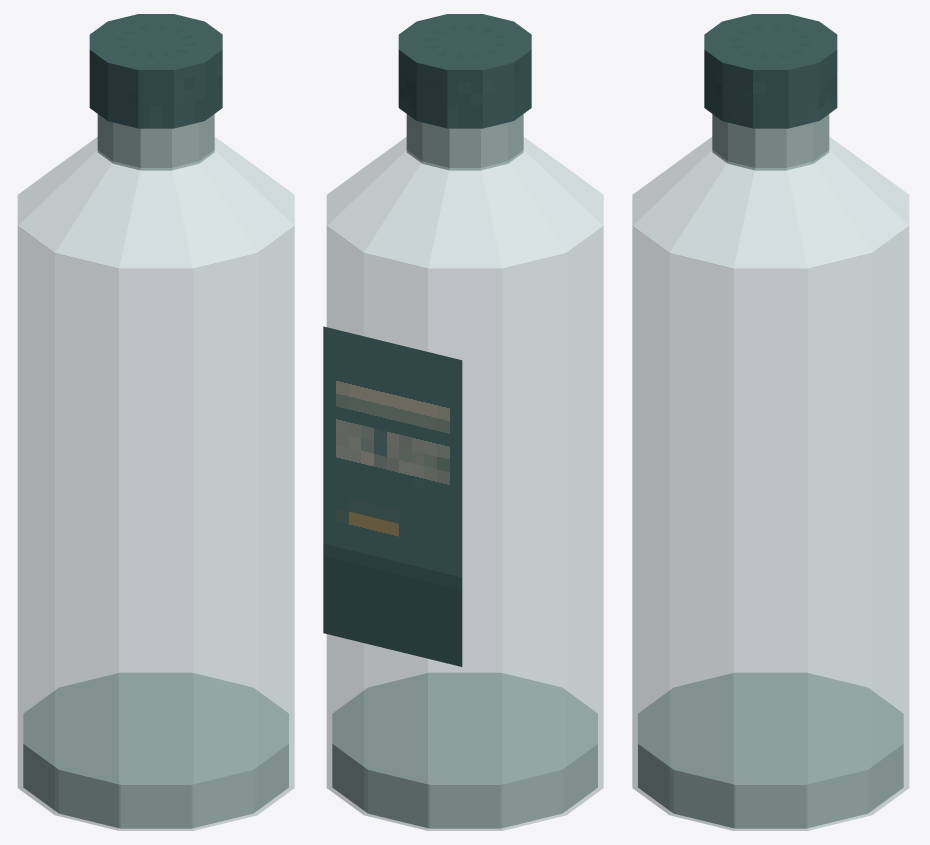
File: bottle_plastic_355ml.glb
3 renders of one model, left to right at view 1: azimuth 30°, elevation 25°; view 2: azimuth 150°, elevation 25°; view 3: azimuth 270°, elevation 25°, orthographic.
Parts seen in each view (by area): view 1: block_bottle body, block_thick base, block_shoulder, block_ribbed closure, block_neck; view 2: block_bottle body, block_label, block_thick base, block_shoulder, block_ribbed closure, block_neck; view 3: block_bottle body, block_thick base, block_shoulder, block_ribbed closure, block_neck.
Part boxes in pixels (bbox=[...]): block_bottle body: bbox=[17, 226, 294, 830]; block_thick base: bbox=[23, 672, 288, 828]; block_shoulder: bbox=[17, 137, 294, 268]; block_ribbed closure: bbox=[89, 14, 222, 128]; block_neck: bbox=[97, 114, 214, 170]; block_bottle body: bbox=[326, 226, 603, 830]; block_label: bbox=[323, 326, 462, 666]; block_thick base: bbox=[332, 672, 597, 828]; block_shoulder: bbox=[326, 137, 603, 268]; block_ribbed closure: bbox=[398, 14, 531, 128]; block_neck: bbox=[406, 114, 523, 170]; block_bottle body: bbox=[632, 226, 909, 830]; block_thick base: bbox=[638, 672, 903, 828]; block_shoulder: bbox=[632, 137, 909, 268]; block_ribbed closure: bbox=[704, 14, 837, 128]; block_neck: bbox=[712, 114, 829, 170].
Bounding box in the file's own units: 0.0618 × 0.18 × 0.0632.
Materials: 2 (2 with a texture image).
